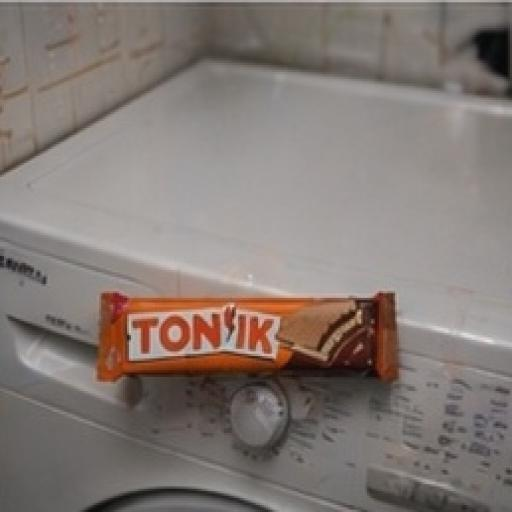tonik: (38, 178, 448, 451)
